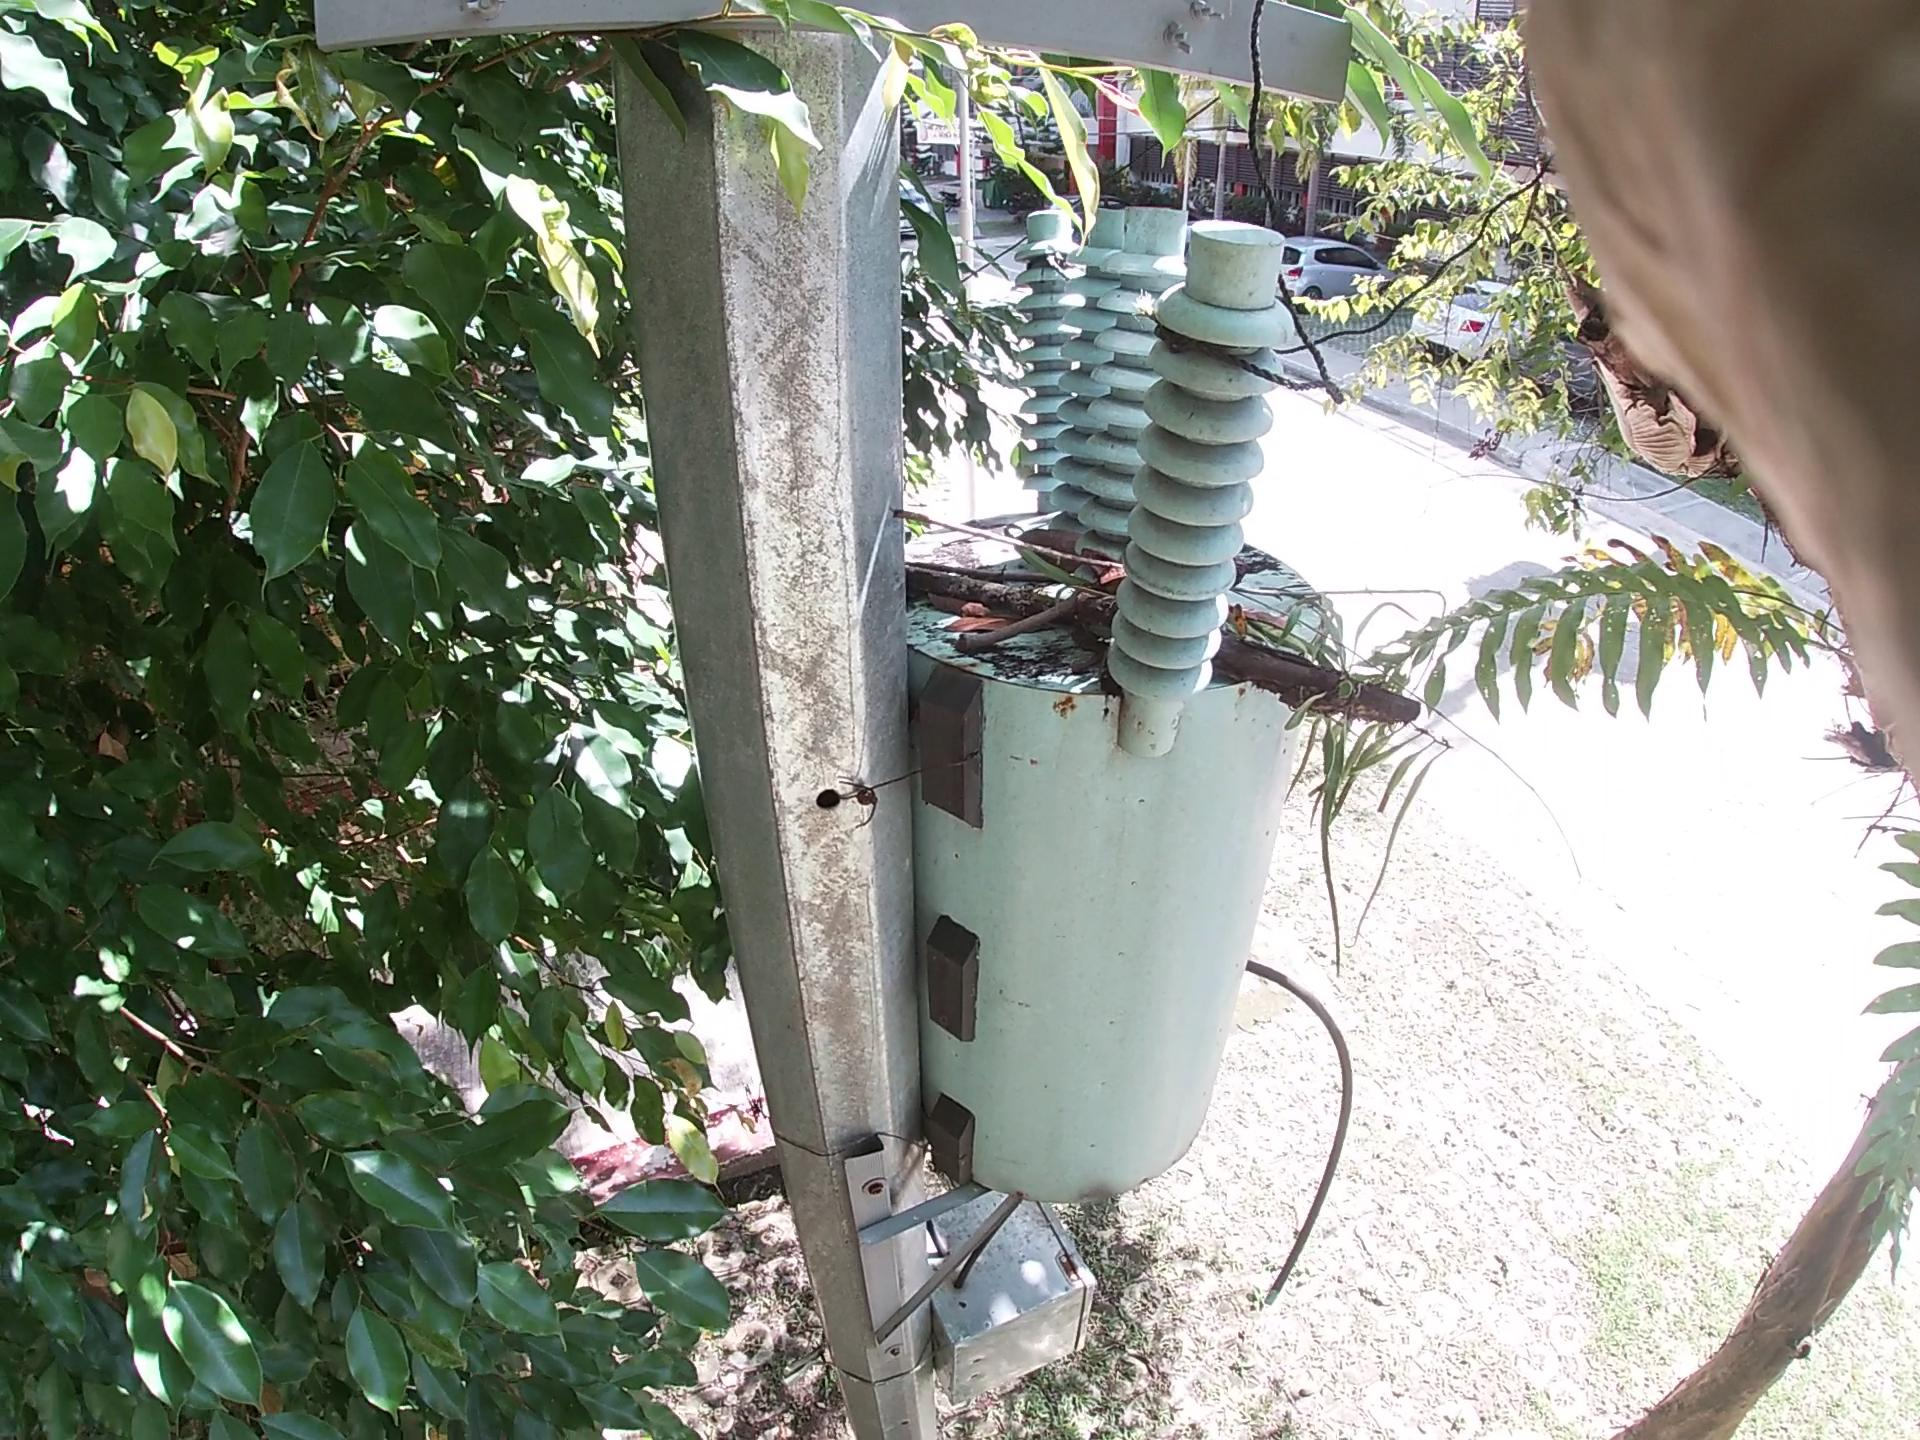branch with leaves: (910, 554, 1411, 743)
leaf: (934, 591, 1082, 664)
mahogany fruit: (1010, 504, 1160, 620)
tree branch: (901, 502, 1610, 889), (949, 613, 1098, 672), (928, 493, 1104, 537)
